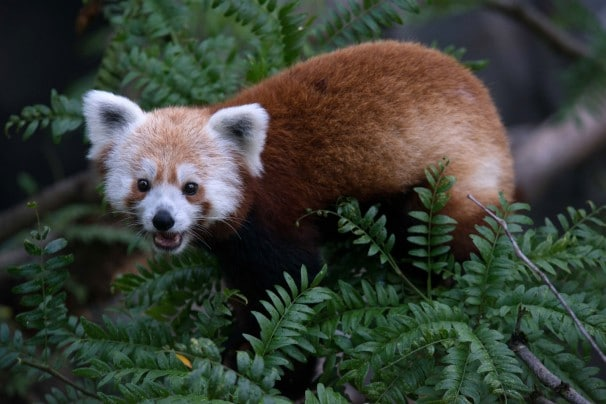red_panda: (75, 48, 519, 329)
